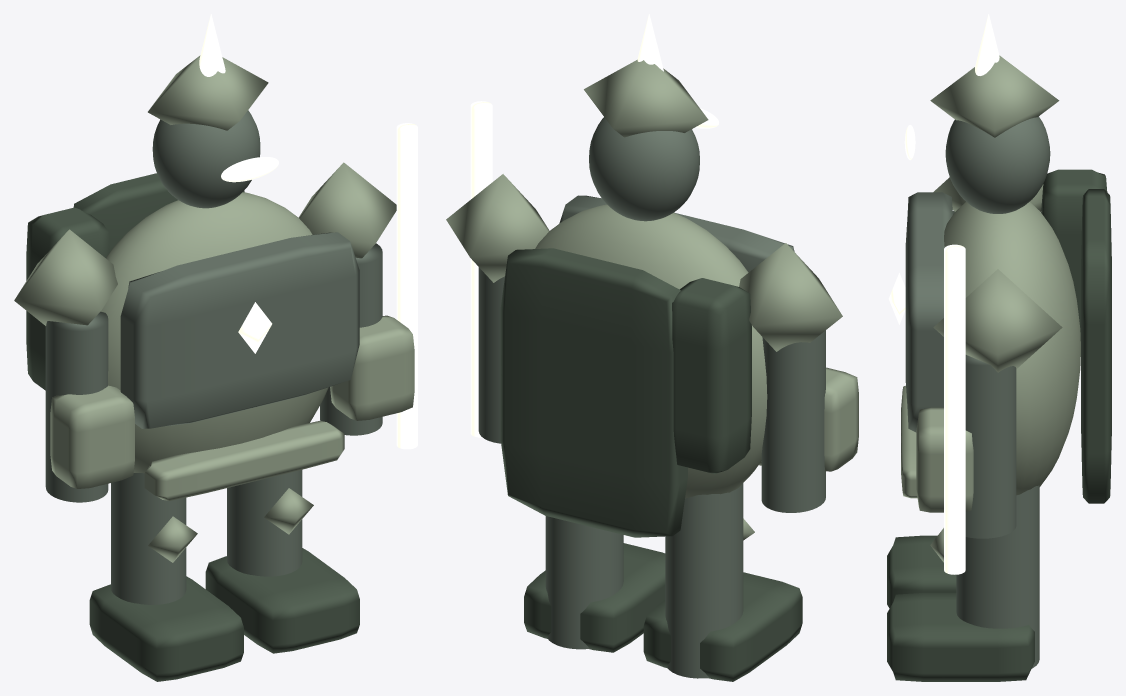
The model's file is hunter.glb.
3 views of the same model, side by side, from view 1: azimuth 30°, elevation 25°; view 2: azimuth 150°, elevation 25°; view 3: azimuth 270°, elevation 25° (orthographic). The views are drawn at different scales.
Visible parts, largest first — view 1: breastplate, torso, leftBoot, rightBoot, ExtraBelt, ExtraForearmL, leftLeg, head, shoulder-1, arm-1, ExtraForearmR, rightLeg (+11 smaller); view 2: cape, quiver, torso, leftLeg, arm-1, head, leftBoot, rightLeg, rightBoot, shoulder-1, helmet, shoulder1 (+5 smaller); view 3: torso, rightBoot, cape, breastplate, rightLeg, arm1, head, bow, shoulder1, helmet, quiver, ExtraForearmR (+5 smaller).
Boxes of the visible parts, <box> form: breastplate: <box>120,232,359,428</box>; torso: <box>101,192,328,473</box>; leftBoot: <box>89,576,243,681</box>; rightBoot: <box>205,548,359,653</box>; ExtraBelt: <box>144,421,344,501</box>; ExtraForearmL: <box>50,385,134,488</box>; leftLeg: <box>111,473,186,604</box>; head: <box>152,110,260,208</box>; shoulder-1: <box>14,229,117,325</box>; arm-1: <box>45,311,108,502</box>; ExtraForearmR: <box>330,315,414,420</box>; rightLeg: <box>227,470,302,576</box>; cape: <box>500,248,687,537</box>; quiver: <box>672,278,751,473</box>; torso: <box>535,204,767,498</box>; leftLeg: <box>665,483,743,678</box>; arm-1: <box>761,330,825,512</box>; head: <box>589,117,699,221</box>; leftBoot: <box>643,572,802,681</box>; rightLeg: <box>545,516,623,649</box>; rightBoot: <box>524,543,665,652</box>; shoulder-1: <box>739,243,842,351</box>; helmet: <box>584,59,708,137</box>; shoulder1: <box>446,174,549,282</box>; torso: <box>944,202,1080,495</box>; rightBoot: <box>887,593,1034,681</box>; cape: <box>1081,189,1111,503</box>; breastplate: <box>905,192,952,432</box>; rightLeg: <box>956,485,1039,668</box>; arm1: <box>965,355,1016,538</box>; head: <box>945,116,1050,213</box>; bow: <box>944,244,965,574</box>; shoulder1: <box>933,269,1062,372</box>; helmet: <box>930,55,1059,137</box>; quiver: <box>1041,169,1107,340</box>; ExtraForearmR: <box>916,407,973,512</box>.
Bounding box in the file's own units: 1.46 × 2.22 × 0.73.
